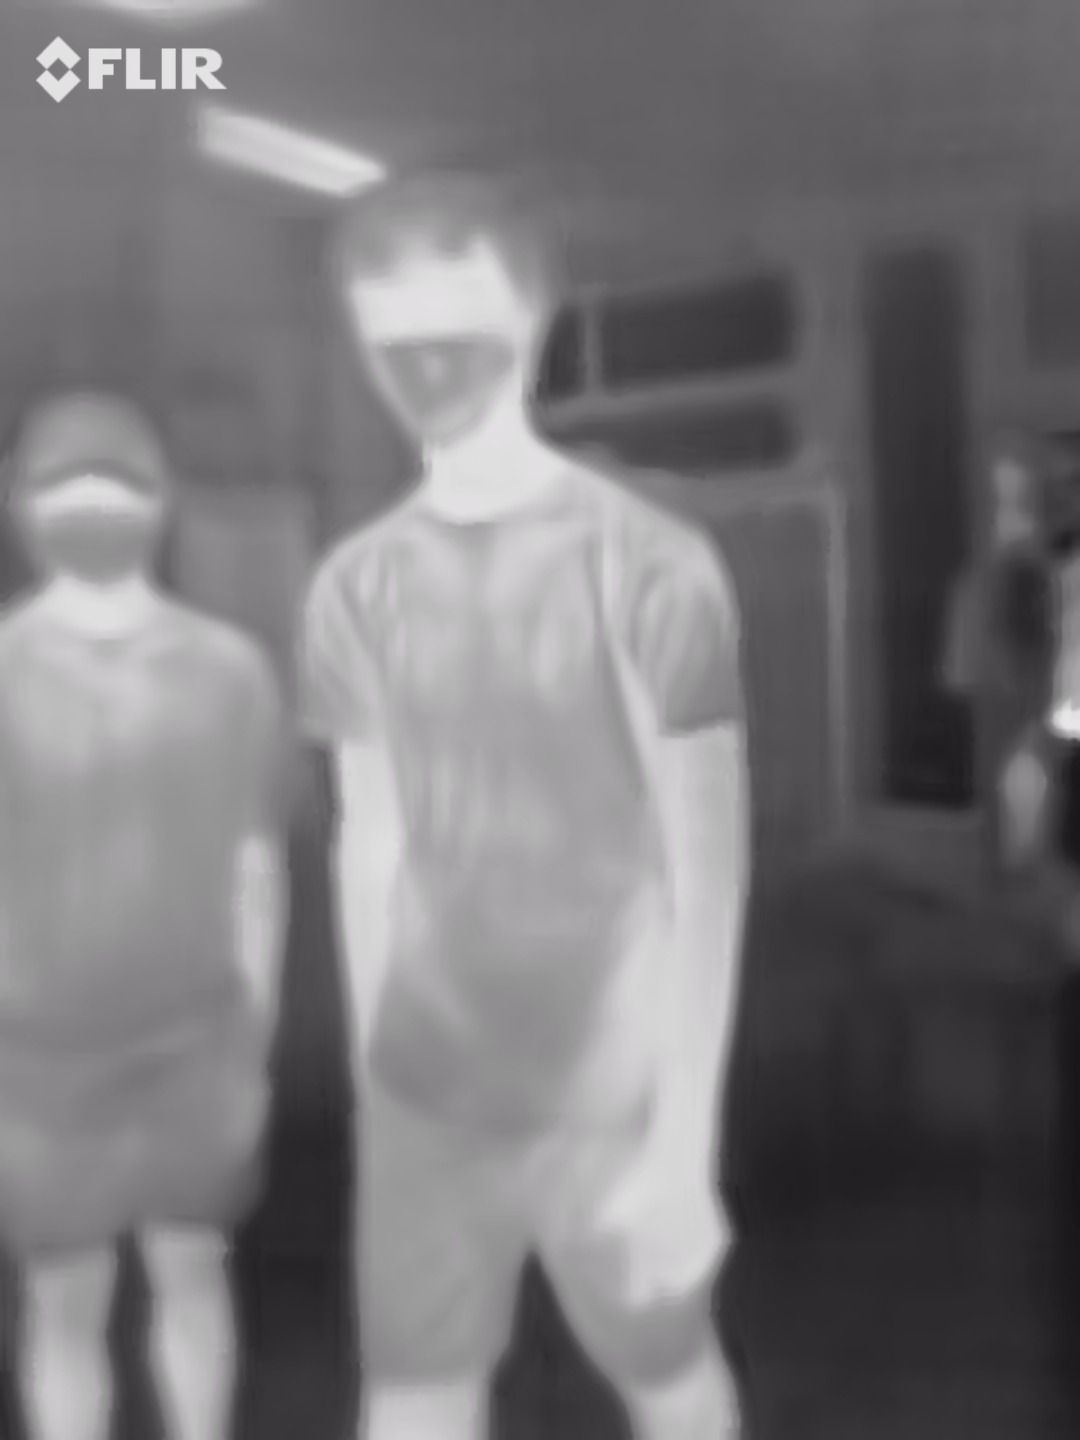head: (330, 169, 574, 463), (10, 387, 186, 598)
